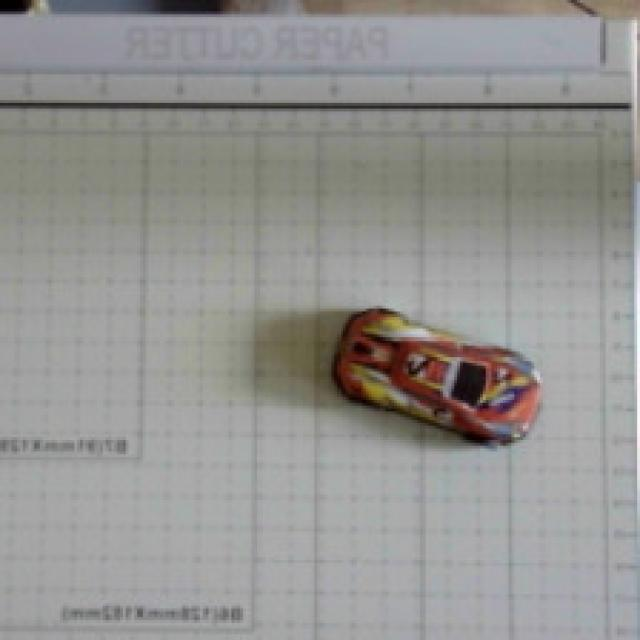Red Car: (329, 263, 584, 483)
